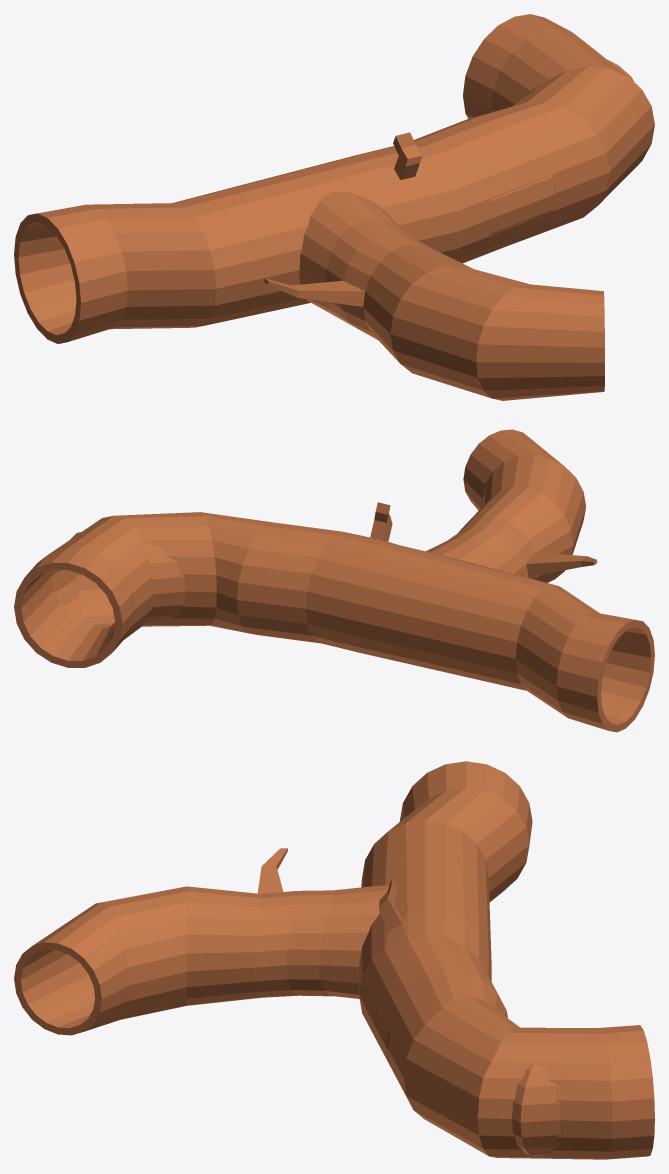
Rendered from pniakduzyfbx.fbx.
The picture shows the model from 3 angles, top to bottom: view 1: azimuth 30°, elevation 25°; view 2: azimuth 150°, elevation 25°; view 3: azimuth 270°, elevation 25°; orthographic projection. The views are drawn at different scales.
Parts seen in each view (by area): view 1: hidden tunnel.2; view 2: hidden tunnel.2; view 3: hidden tunnel.2.
Part boxes in pixels (x1,y1,x2,y2): hidden tunnel.2: [14, 14, 654, 400]; hidden tunnel.2: [14, 429, 654, 732]; hidden tunnel.2: [14, 761, 654, 1159].
Bounding box in the file's own units: 1072 × 256 × 965.
